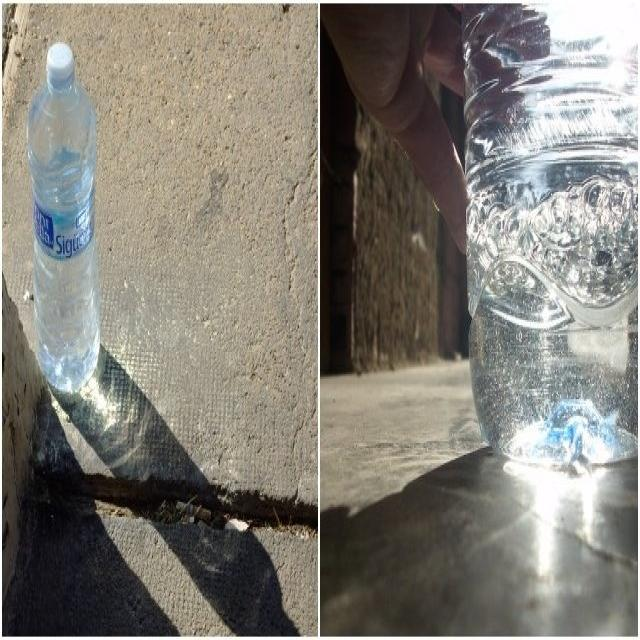plastic_bottle: (461, 2, 638, 472)
